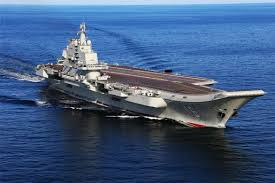tau_muctieu: (40, 34, 262, 130)
